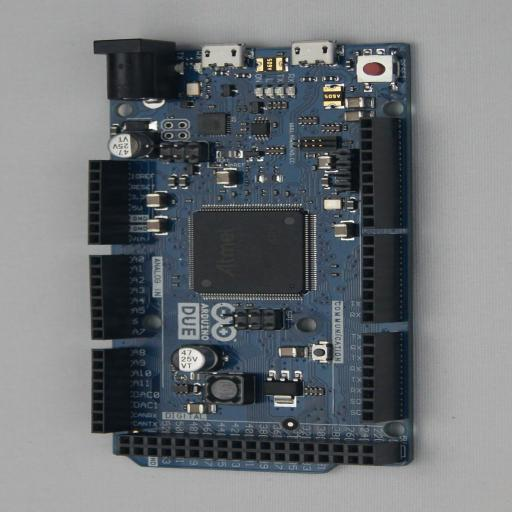Arduino Due: (88, 39, 420, 473)
